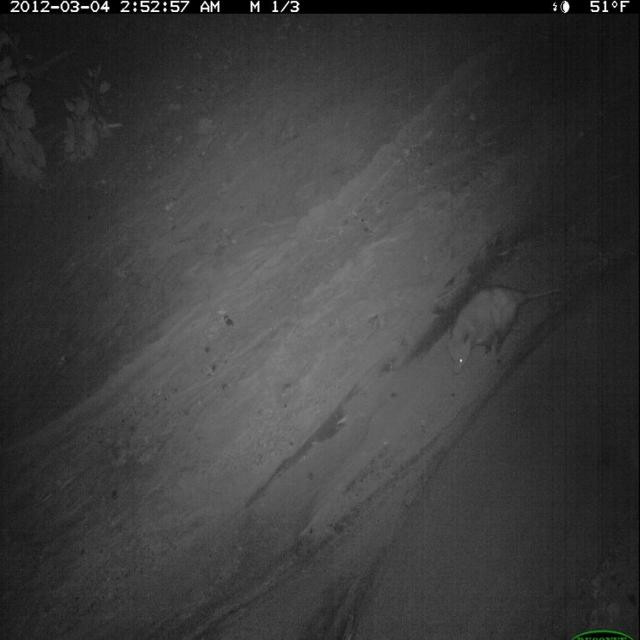opossum: (446, 279, 570, 382)
